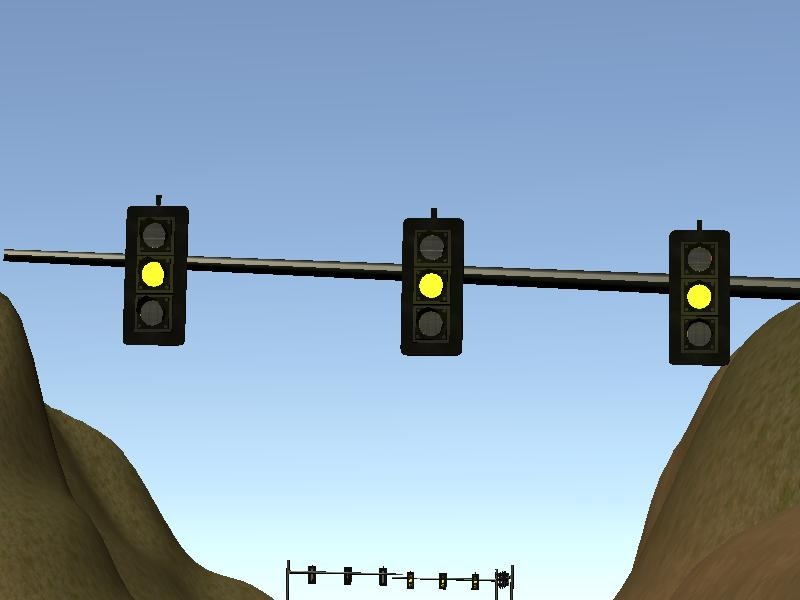yellow: (390, 202, 469, 365), (117, 190, 191, 355), (663, 220, 736, 374)
